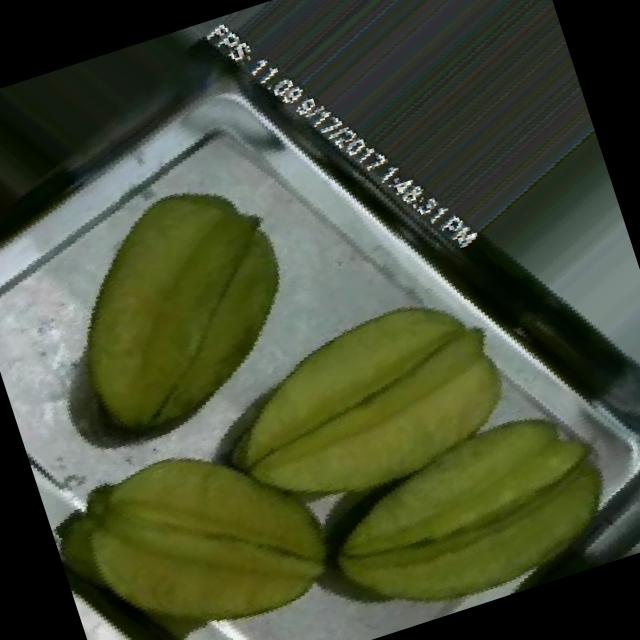fruit: (155, 219, 595, 640), (0, 127, 373, 499), (270, 365, 640, 640), (31, 374, 401, 640)
